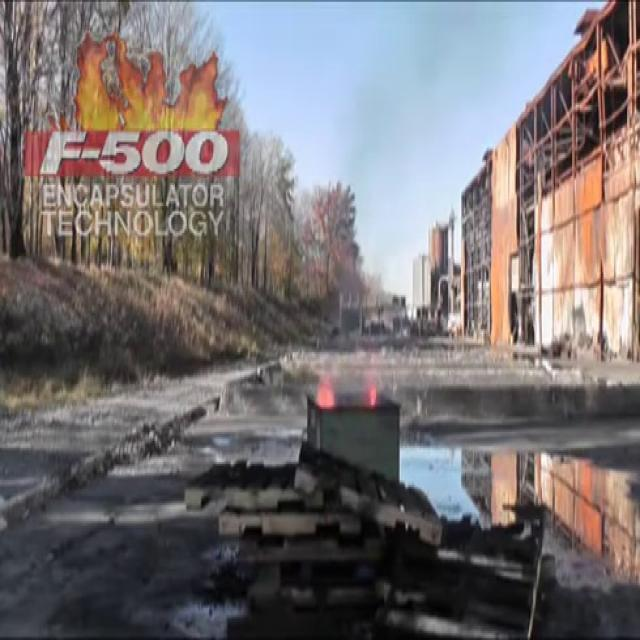Fire: (312, 368, 341, 410)
